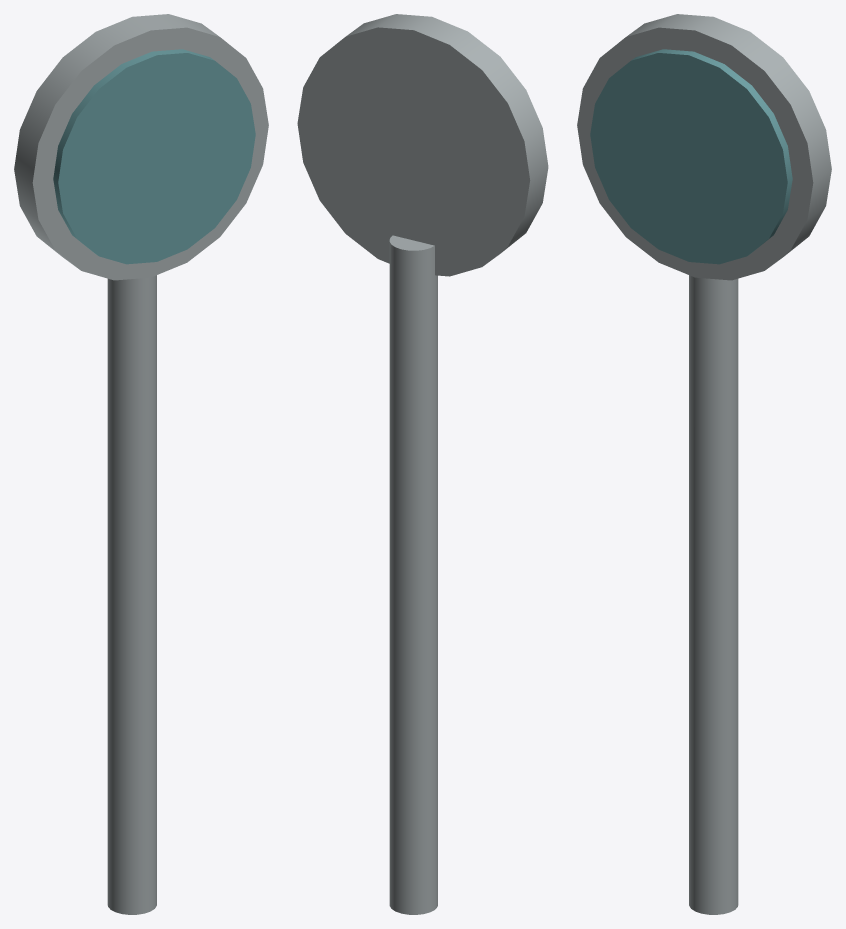
File: salvage-and-repair-workshop-inspection-mirror-c0e001e8__25475.glb
3 renders of one model, left to right at view 1: azimuth 30°, elevation 25°; view 2: azimuth 150°, elevation 25°; view 3: azimuth 330°, elevation 25°, orthographic.
Parts seen in each view (by area): view 1: inspection-mirror; view 2: inspection-mirror; view 3: inspection-mirror.
Part boxes in pixels (x1,y1,x2,y2): inspection-mirror: (14, 14, 268, 914); inspection-mirror: (297, 14, 548, 914); inspection-mirror: (577, 14, 831, 914).
Size of the model in its own units: 0.11 by 0.395 by 0.03.
